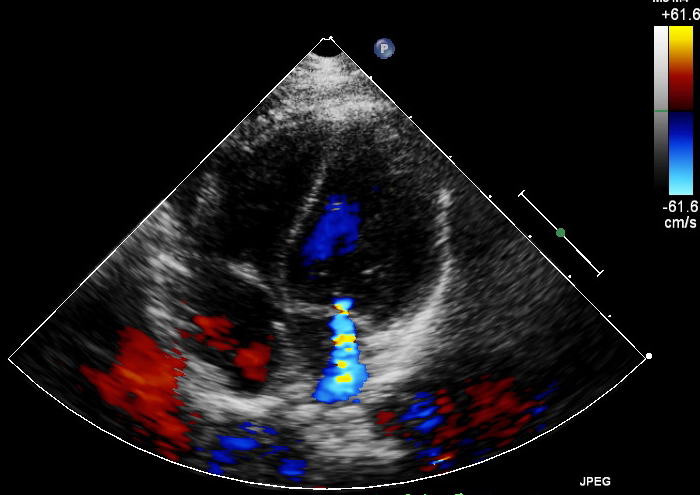MR: (297, 297, 377, 349)
